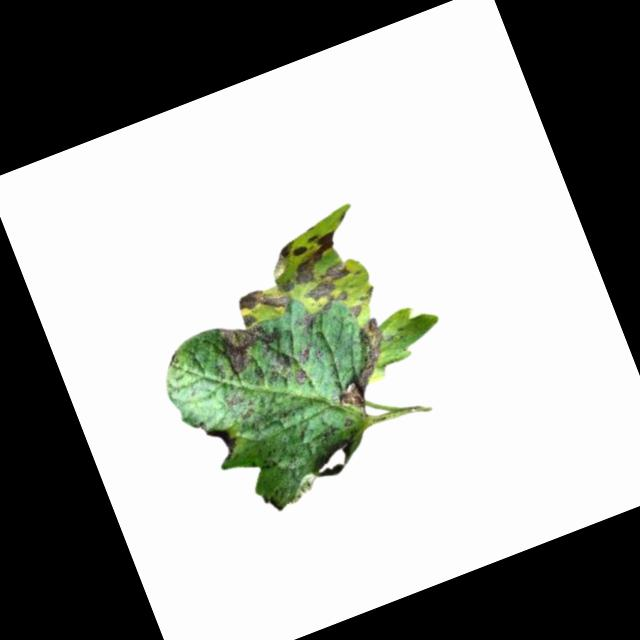Early_blight: (221, 217, 369, 332), (316, 317, 405, 415), (215, 311, 292, 388), (203, 421, 243, 464), (296, 305, 325, 333), (295, 344, 314, 365), (294, 366, 312, 384)
